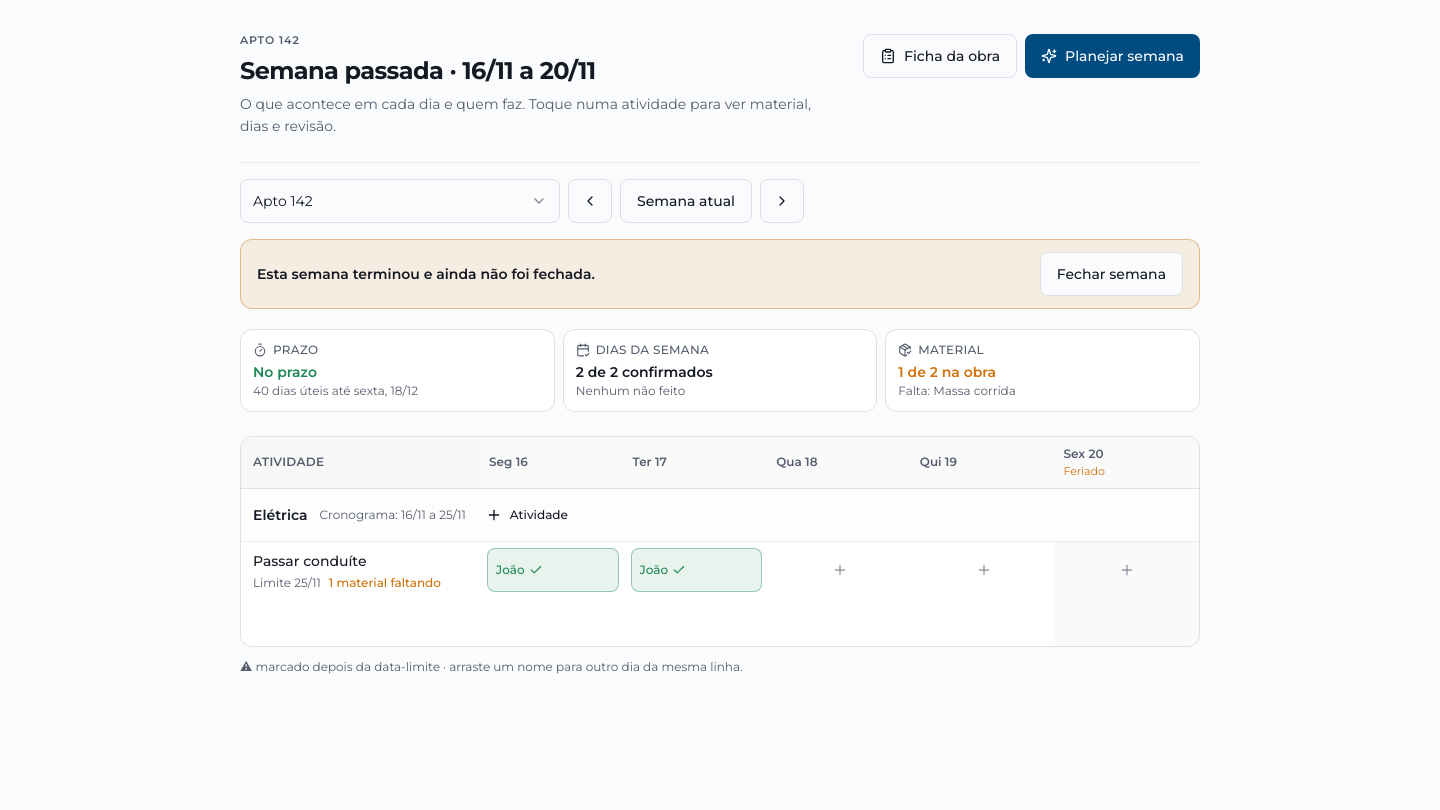
Tela Semana › fechar semana e PPC › semana que terminou sem fechar avisa e fecha pela gaveta
Later steps or results of the test are not shown.
What coordinates should you click on to do the following:
click the button "Fechar semana"
I would click on:
 (1111, 274)
Its box is [1040,252,1183,296].
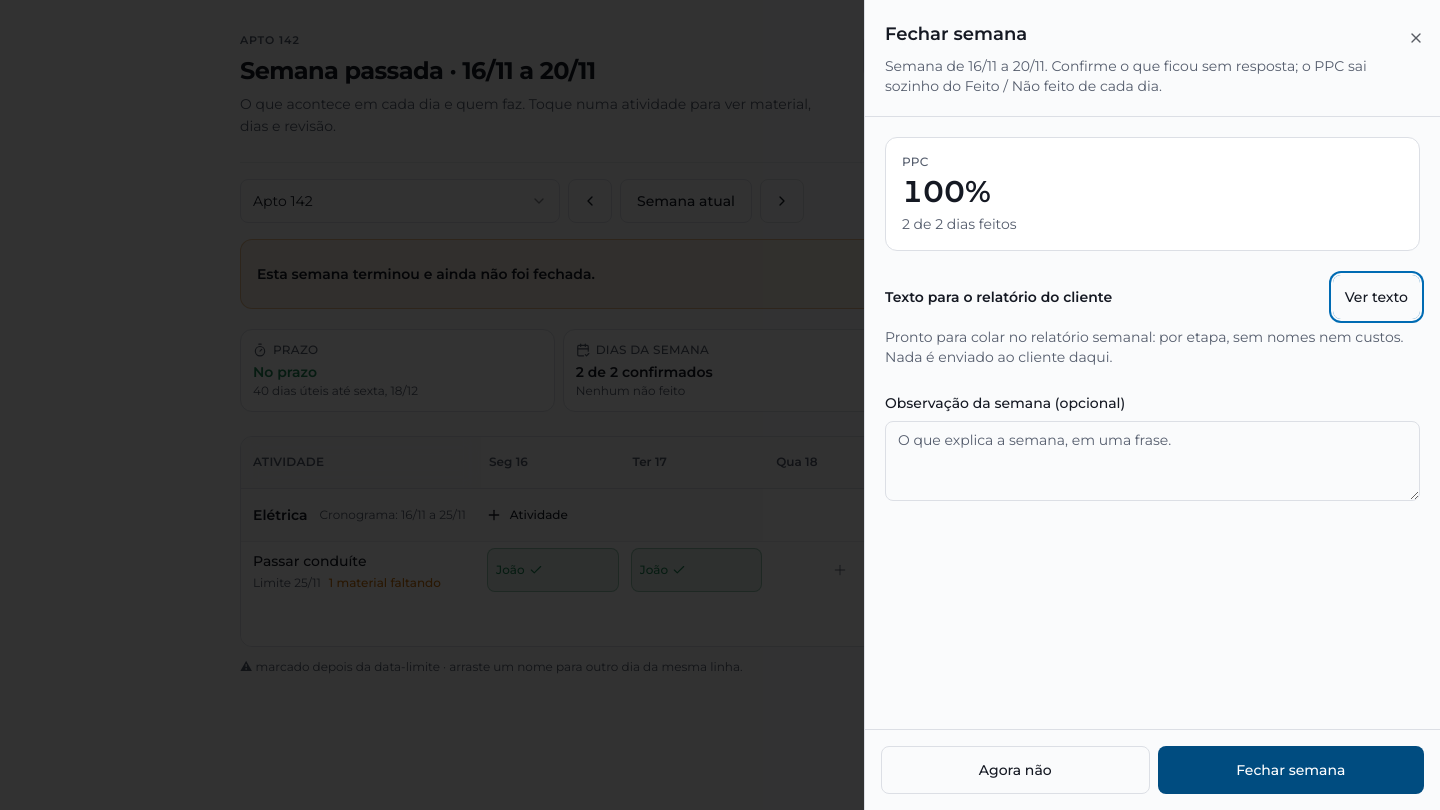
Expected: the text "100%" is shown, [902,173,991,210]
Expected: the text "2 de 2 dias feitos" is shown, [902,215,1017,233]
